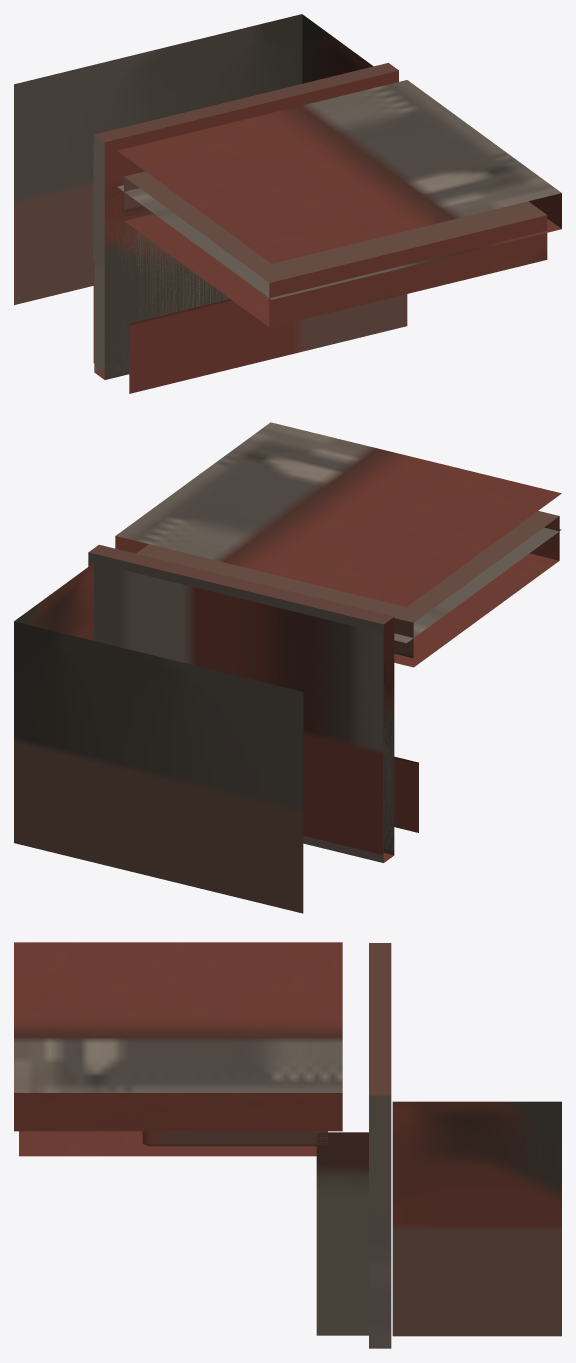
Rendered from section-7.obj.
3 views of the same model, one above another, from view 1: azimuth 30°, elevation 25°; view 2: azimuth 150°, elevation 25°; view 3: azimuth 270°, elevation 25° (orthographic). The views are drawn at different scales.
Size of the model in its own units: 0.725 by 0.5615 by 1.1.
